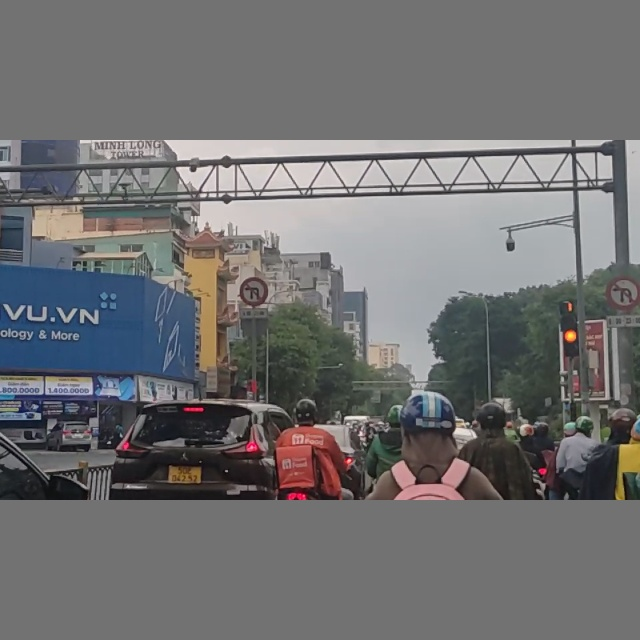P.124c: (604, 277, 640, 310), (240, 275, 268, 305)
